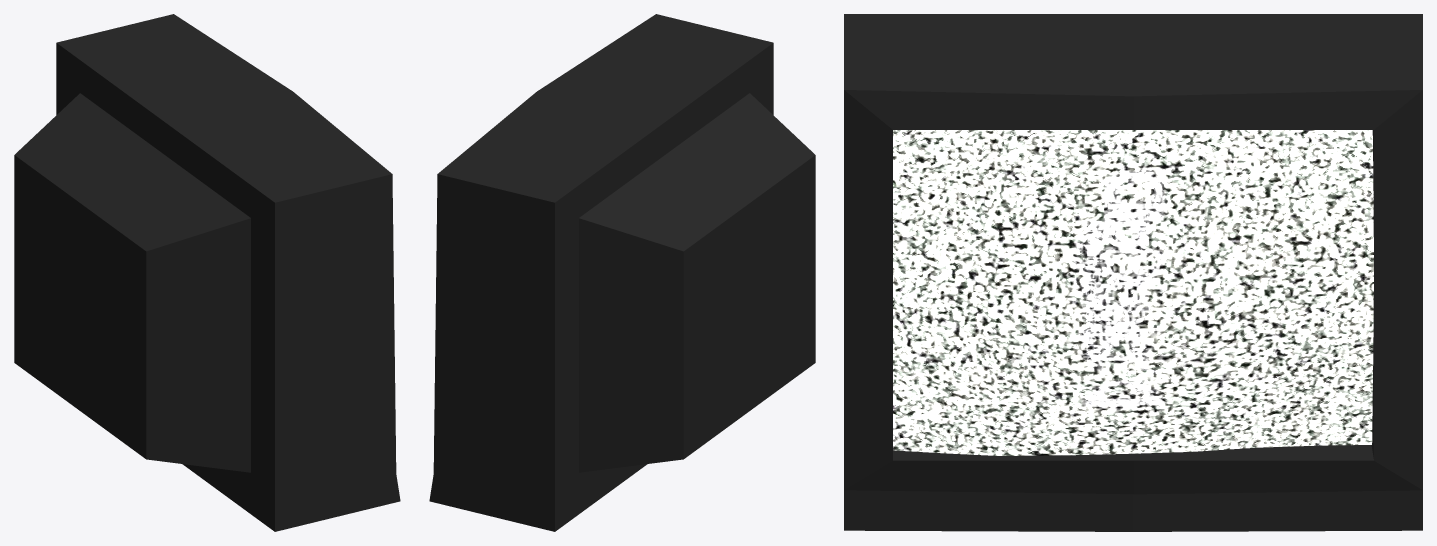
3 renders of one model, left to right at view 1: azimuth 30°, elevation 25°; view 2: azimuth 150°, elevation 25°; view 3: azimuth 270°, elevation 25°, orthographic. The views are drawn at different scales.
Visible parts, largest first — view 1: tv; view 2: tv; view 3: tv.
Part boxes in pixels (x1,y1,x2,y2): tv: (14,14,400,531); tv: (429,14,815,531); tv: (844,14,1422,531).
Size of the model in its own units: 5.42 by 7.76 by 9.34.
2 materials, 1 textured.
